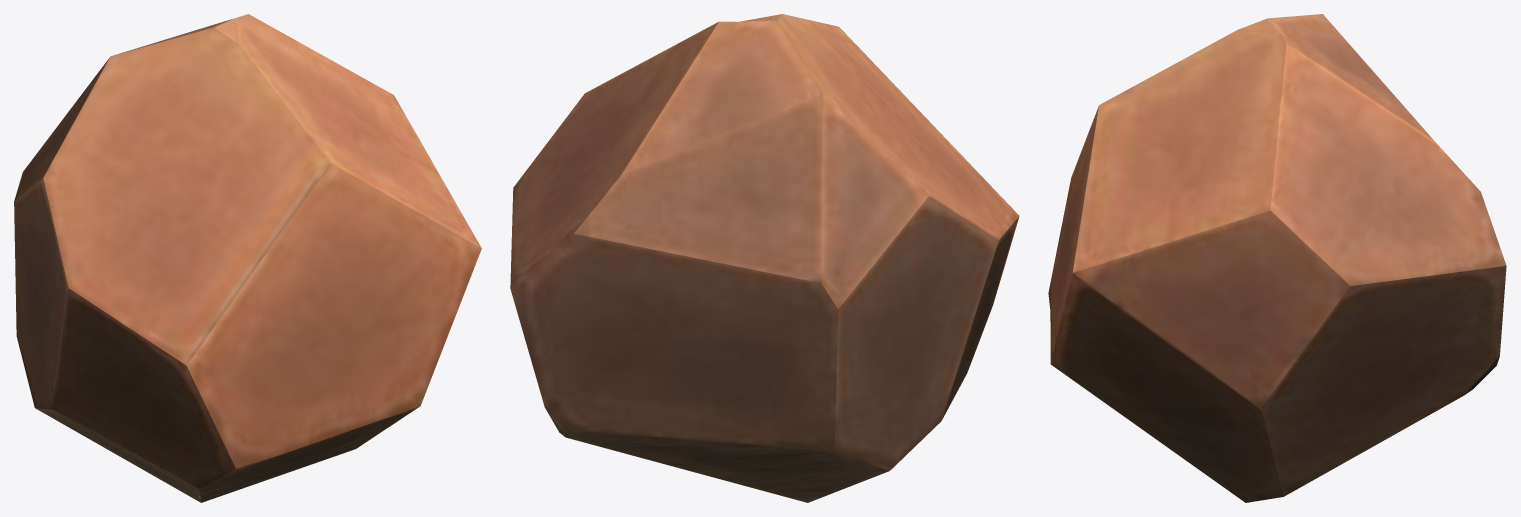
Rendered from rock-small-0.glb.
3 renders of one model, left to right at view 1: azimuth 30°, elevation 25°; view 2: azimuth 150°, elevation 25°; view 3: azimuth 270°, elevation 25°, orthographic. The views are drawn at different scales.
Visible parts, largest first — view 1: S_Rock_01_10; view 2: S_Rock_01_10; view 3: S_Rock_01_10.
Boxes of the visible parts, left/top/right/bottom form: S_Rock_01_10: left=14, top=14, right=481, bottom=502; S_Rock_01_10: left=510, top=14, right=1019, bottom=502; S_Rock_01_10: left=1048, top=14, right=1506, bottom=502.
Size of the model in its own units: 1.12 by 1.27 by 1.19.
1 material, 1 textured.
